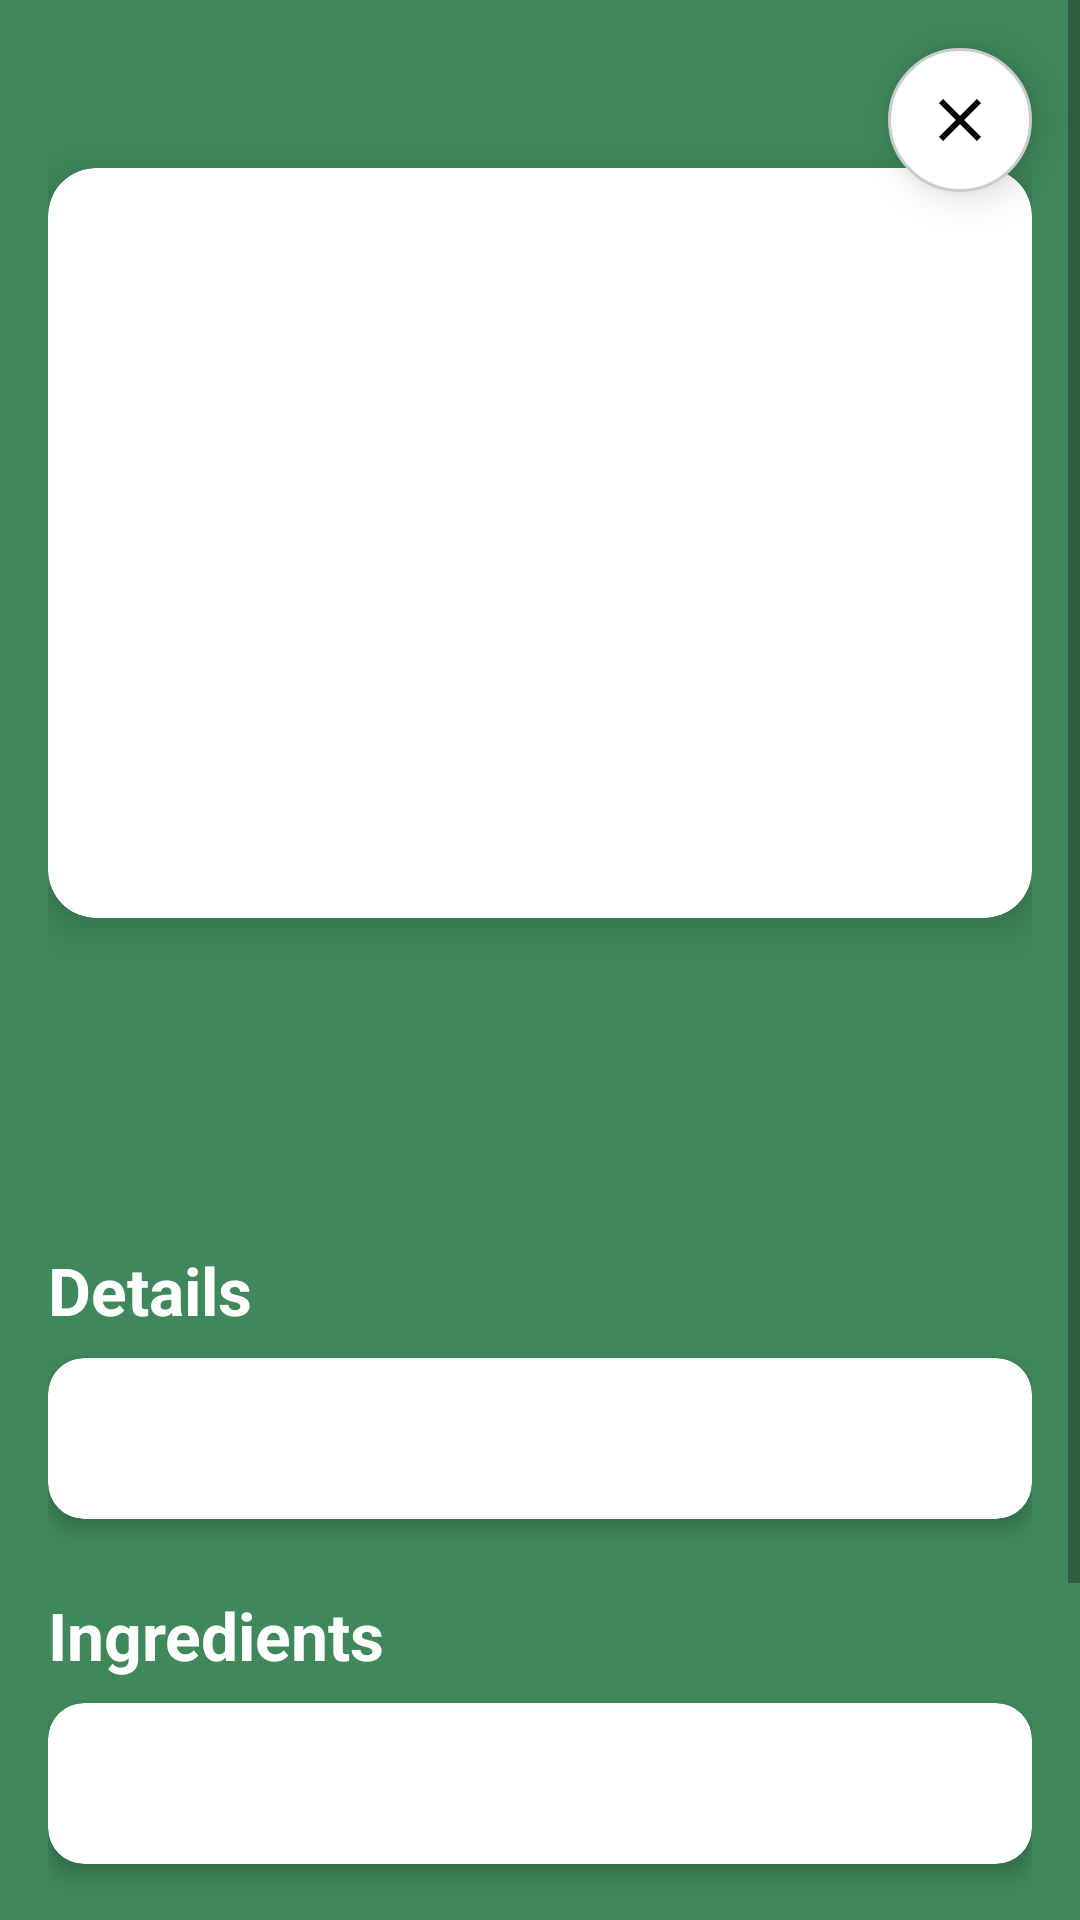

Icon bounding boxes for this 1080*1920 phone screenshot, format (x1, y1, x2, y2):
Close: (888, 48, 1032, 192)
